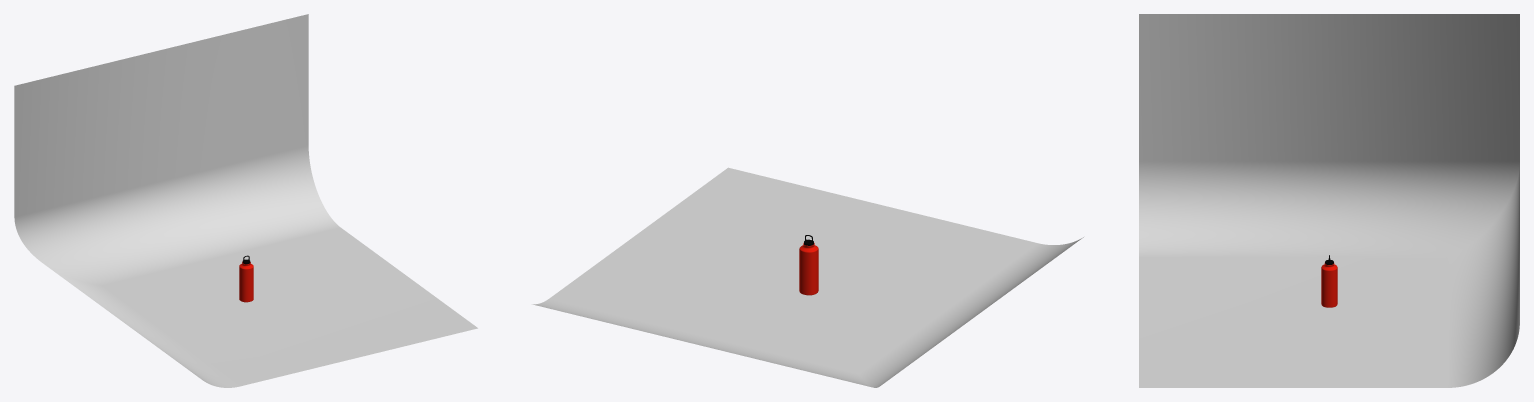
The model's file is steel_bottle1.glb.
The picture shows the model from 3 angles, left to right: view 1: azimuth 30°, elevation 25°; view 2: azimuth 150°, elevation 25°; view 3: azimuth 270°, elevation 25°; orthographic projection. The views are drawn at different scales.
Parts seen in each view (by area): view 1: Plane, Cube001; view 2: Plane, Cube001; view 3: Plane, Cube001.
Boxes of the visible parts, x1,y1,x2,y2 form: Plane: (14,14,477,387); Cube001: (239,262,253,302); Plane: (532,167,1083,387); Cube001: (799,243,818,295); Plane: (1139,14,1519,387); Cube001: (1321,263,1337,307).
Bounding box in the file's own units: 43.39 × 26.78 × 43.39.
